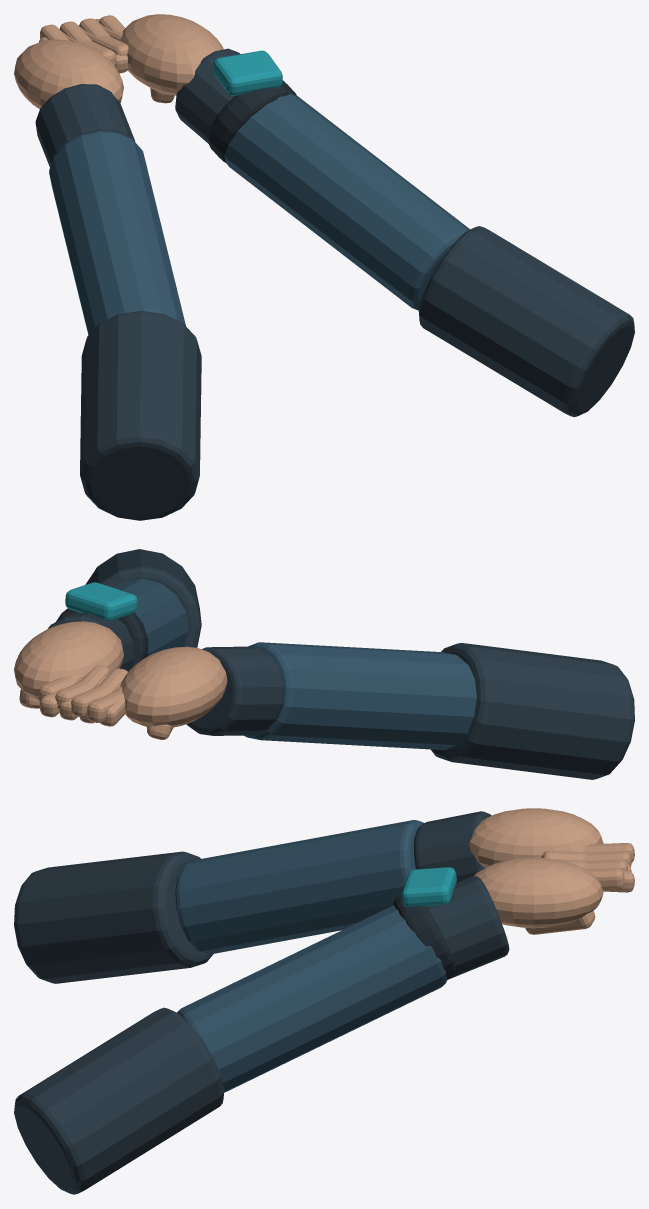
The model's file is SecretAgent_FirstPersonArms.fbx.
3 renders of one model, top to bottom at view 1: azimuth 30°, elevation 25°; view 2: azimuth 150°, elevation 25°; view 3: azimuth 270°, elevation 25°, orthographic. The views are drawn at different scales.
Visible parts, largest first — view 1: Left Tailored Sleeve, Left Forearm Sleeve, Right Tailored Sleeve, Right Forearm Sleeve, Left Hand Palm, Right Hand Palm, Right Shirt Cuff, Left Shirt Cuff, Agent Watch Face, Agent Watch Band; view 2: Right Tailored Sleeve, Right Forearm Sleeve, Right Hand Palm, Right Shirt Cuff, Left Hand Palm, Left Tailored Sleeve, Left Forearm Sleeve, Agent Watch Face, Left Shirt Cuff, Agent Watch Band, Right Finger 3, Left Finger 4 (+6 smaller); view 3: Left Forearm Sleeve, Left Tailored Sleeve, Right Forearm Sleeve, Right Tailored Sleeve, Left Hand Palm, Right Hand Palm, Left Shirt Cuff, Right Shirt Cuff, Agent Watch Face, Agent Watch Band, Left Finger 1, Left Thumb.
Boxes of the visible parts, x1,y1,x2,y2 form: Left Tailored Sleeve: (418,226,634,417); Left Forearm Sleeve: (224,93,469,310); Right Tailored Sleeve: (80,311,201,520); Right Forearm Sleeve: (49,131,185,334); Left Hand Palm: (119,14,223,95); Right Hand Palm: (14,39,123,109); Right Shirt Cuff: (35,84,135,167); Left Shirt Cuff: (175,48,240,143); Agent Watch Face: (213,50,282,95); Agent Watch Band: (208,80,296,163); Right Tailored Sleeve: (430,643,634,779); Right Forearm Sleeve: (244,642,476,749); Right Hand Palm: (120,646,227,727); Right Shirt Cuff: (186,646,284,735); Left Hand Palm: (14,621,123,700); Left Tailored Sleeve: (85,549,201,647); Left Forearm Sleeve: (113,578,188,656); Agent Watch Face: (65,582,137,621); Left Shirt Cuff: (48,612,134,671); Agent Watch Band: (56,608,148,667); Right Finger 3: (59,665,109,720); Left Finger 4: (87,690,123,722); Left Forearm Sleeve: (177,905,447,1092); Left Tailored Sleeve: (14,1007,224,1194); Right Forearm Sleeve: (175,820,423,954); Right Tailored Sleeve: (14,851,213,983); Left Hand Palm: (473,857,603,928); Right Hand Palm: (469,808,603,867); Left Shirt Cuff: (427,876,509,978); Right Shirt Cuff: (414,811,491,882); Agent Watch Face: (401,867,456,906); Agent Watch Band: (393,894,456,980); Left Finger 1: (586,868,624,890); Left Thumb: (525,911,595,934).
Size of the model in its own units: 1.11 by 0.4871 by 1.12.
